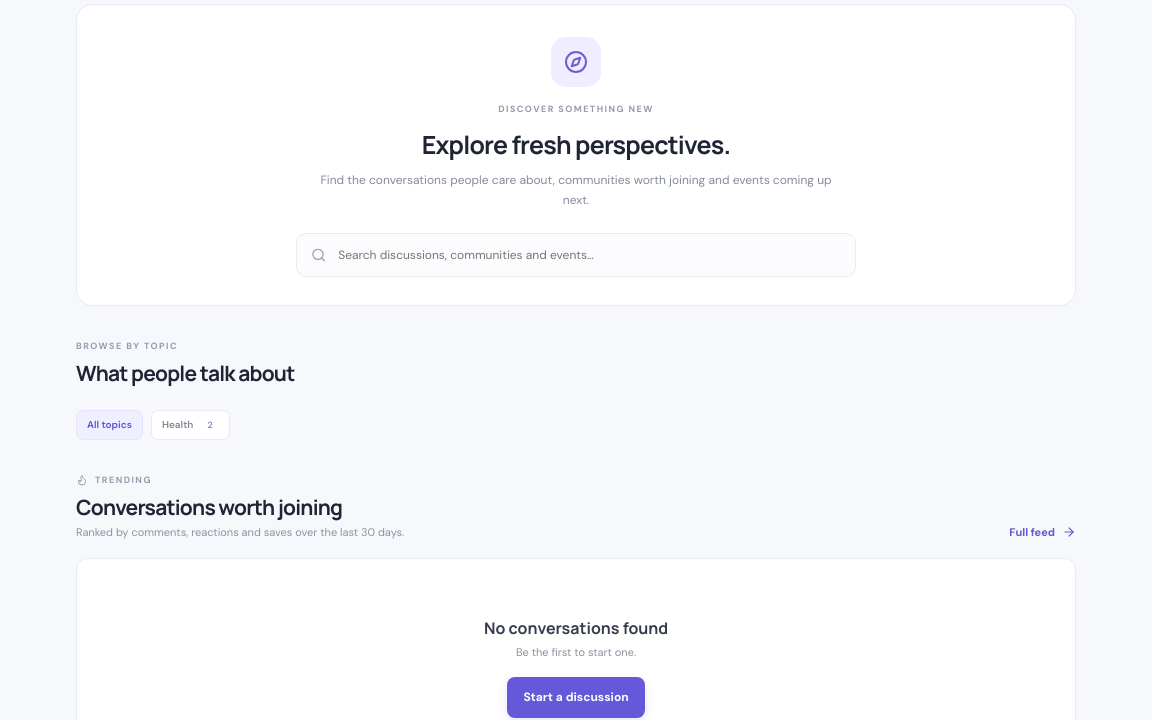
Scenario: ExplorePage › shows only topics with discussions and filters trending by topic
The image size is (1152, 720).
Click the button "Health 2" at (190, 425), box [151,410,230,440]
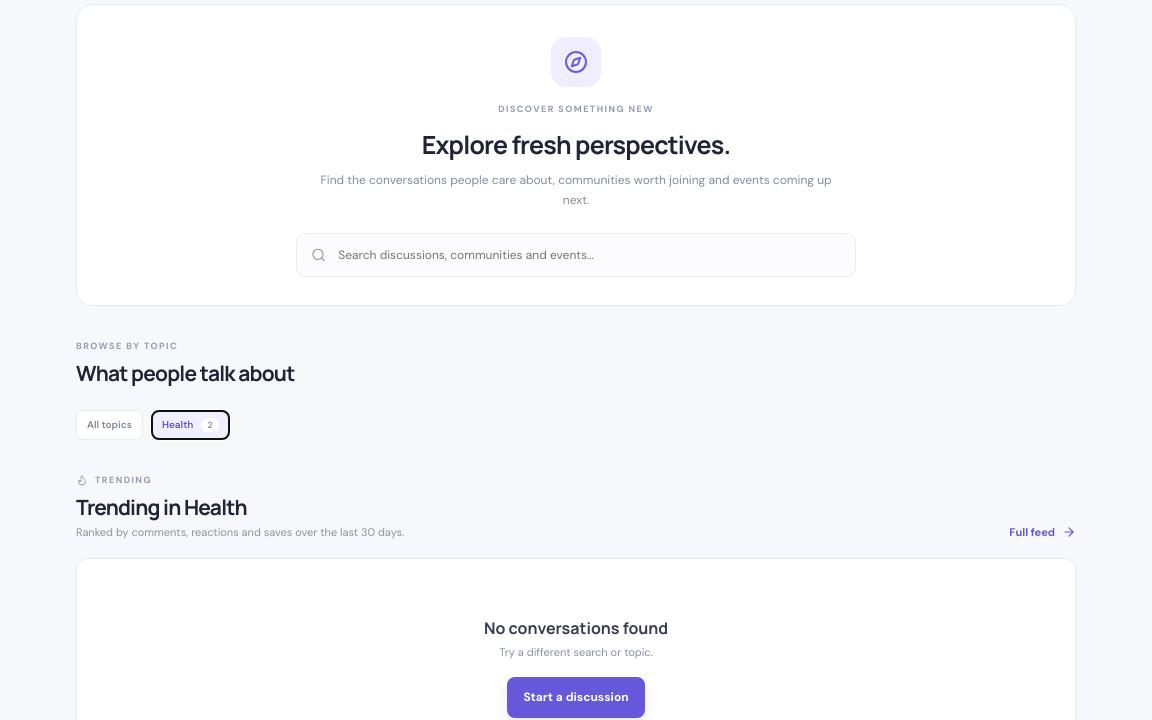
Result: the heading "Trending in Health" is shown at [76,493,247,521]
